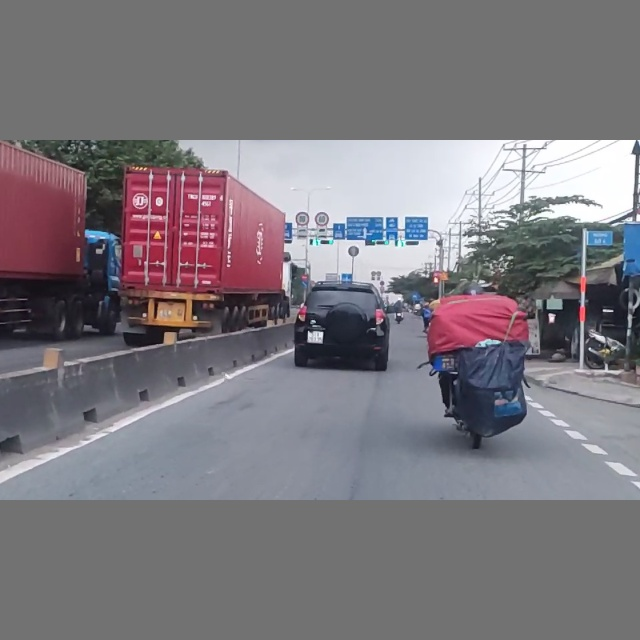P.102: (301, 274, 308, 281)
P.127*60: (314, 211, 330, 227)
P.127*80: (296, 212, 310, 226)
R.302a: (301, 281, 307, 287)
